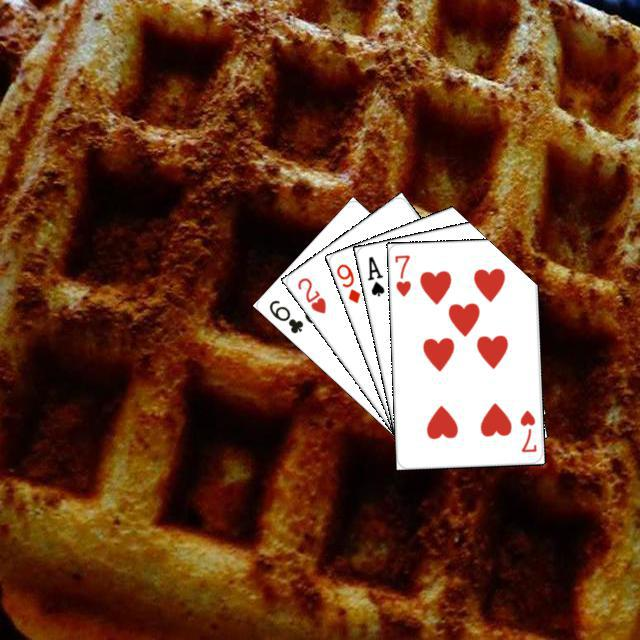2h: (292, 272, 328, 315)
6c: (264, 295, 305, 335)
7h: (515, 405, 538, 454), (390, 250, 412, 298)
9d: (332, 259, 362, 305)
As: (362, 251, 386, 298)
